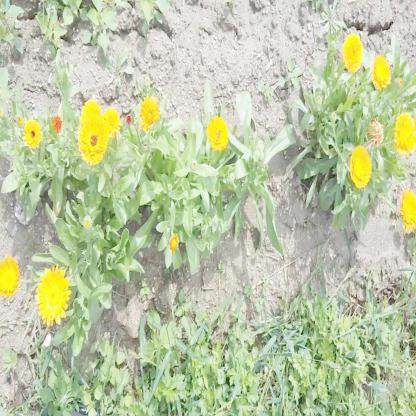marigold: (36, 266, 71, 323), (78, 106, 108, 166), (350, 145, 372, 188), (139, 95, 162, 133), (394, 114, 414, 154), (344, 33, 364, 73), (1, 257, 20, 298), (207, 114, 229, 148), (79, 97, 101, 131), (399, 190, 415, 231), (23, 119, 42, 148), (373, 56, 391, 86), (100, 109, 118, 133)
